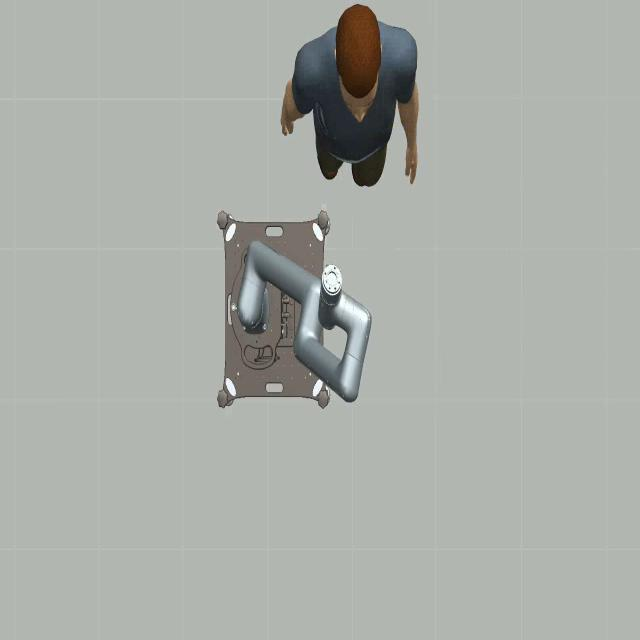human: (280, 3, 419, 188)
robot: (216, 207, 372, 409)
